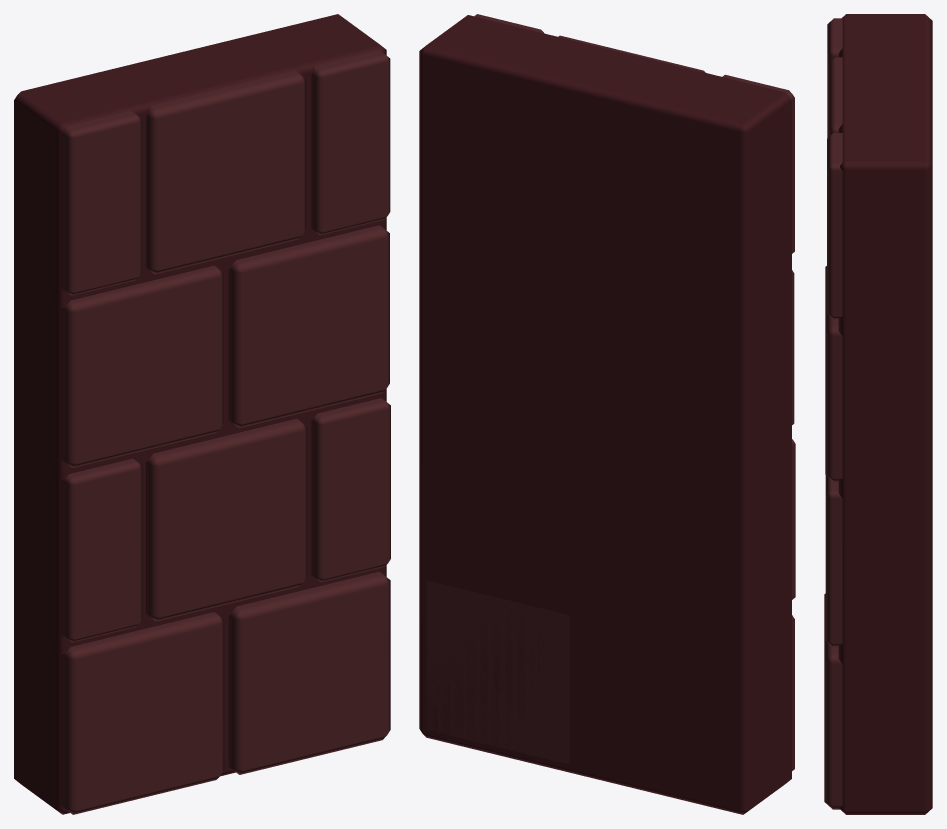
Rendered from living-cave-wall-retaining.71dad967.glb.
3 views of the same model, side by side, from view 1: azimuth 30°, elevation 25°; view 2: azimuth 150°, elevation 25°; view 3: azimuth 270°, elevation 25° (orthographic). The views are drawn at different scales.
Parts seen in each view (by area): view 1: body; view 2: body; view 3: body.
Boxes of the visible parts, <box> form: body: <box>14,14,390,814</box>; body: <box>419,14,795,814</box>; body: <box>824,14,932,814</box>.
Bounding box in the file's own units: 1 × 2 × 0.3.
